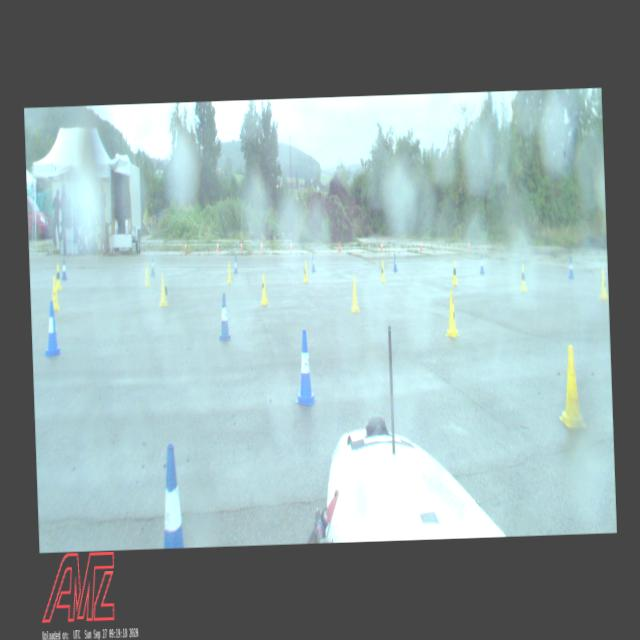blue_cone: (160, 443, 183, 548), (292, 329, 316, 405), (42, 300, 61, 356), (217, 292, 230, 340), (60, 259, 67, 279), (568, 255, 574, 278), (478, 254, 484, 274), (310, 254, 316, 272), (232, 255, 238, 273), (392, 253, 397, 271), (150, 257, 154, 276)
orange_cone: (216, 240, 219, 252), (380, 240, 383, 252), (184, 240, 187, 251), (338, 240, 340, 252), (420, 239, 422, 250), (240, 239, 242, 250), (260, 240, 262, 251), (290, 241, 292, 251), (468, 240, 470, 250)
yellow_cone: (556, 344, 586, 428), (444, 290, 459, 336), (348, 277, 359, 312), (258, 274, 269, 304), (598, 268, 608, 300), (51, 276, 60, 310), (158, 276, 167, 306), (450, 260, 458, 285), (519, 264, 526, 291), (55, 264, 62, 290), (143, 262, 150, 286), (225, 261, 232, 283), (380, 260, 386, 282), (302, 260, 308, 282)
